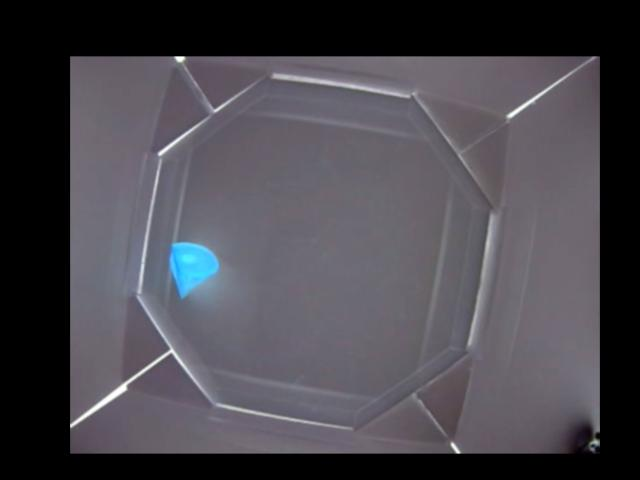Carrot: (169, 241, 218, 298)
